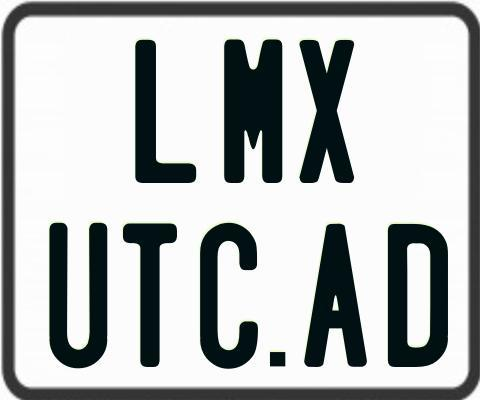A: (304, 224, 368, 373)
C: (198, 223, 257, 374)
D: (388, 224, 452, 367)
L: (134, 39, 199, 182)
M: (223, 36, 283, 181)
T: (120, 222, 177, 368)
U: (47, 221, 107, 366)
X: (297, 39, 354, 188)
